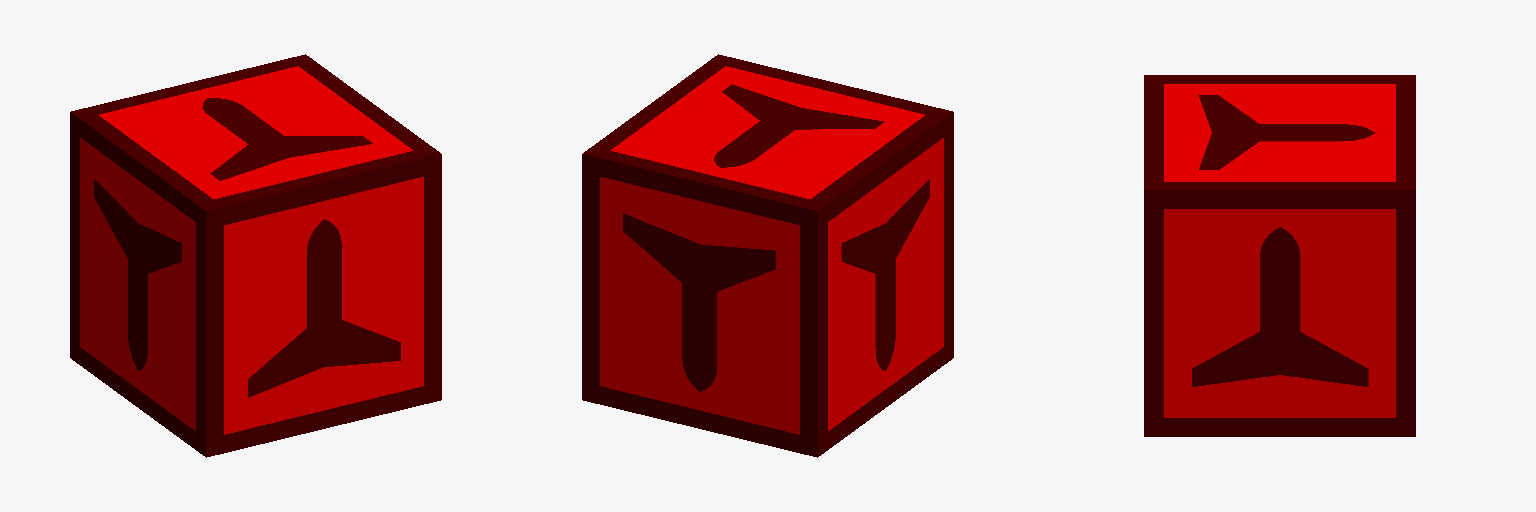
The picture shows the model from 3 angles: view 1: azimuth 30°, elevation 25°; view 2: azimuth 150°, elevation 25°; view 3: azimuth 270°, elevation 25°; orthographic projection.
Visible parts, largest first — view 1: Cube; view 2: Cube; view 3: Cube.
Boxes of the visible parts, x1,y1,x2,y2 form: Cube: [70, 54, 441, 457]; Cube: [582, 54, 953, 457]; Cube: [1144, 75, 1415, 436].
Bounding box in the file's own units: 0.6 × 0.6 × 0.6.
1 materials, 1 textured.